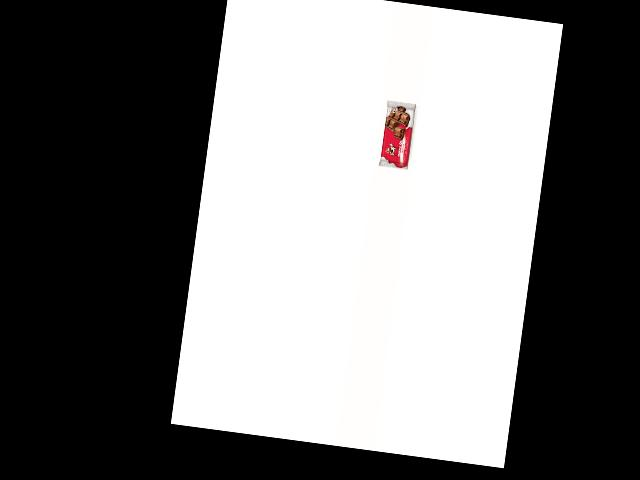chocolate: (376, 98, 421, 172)
